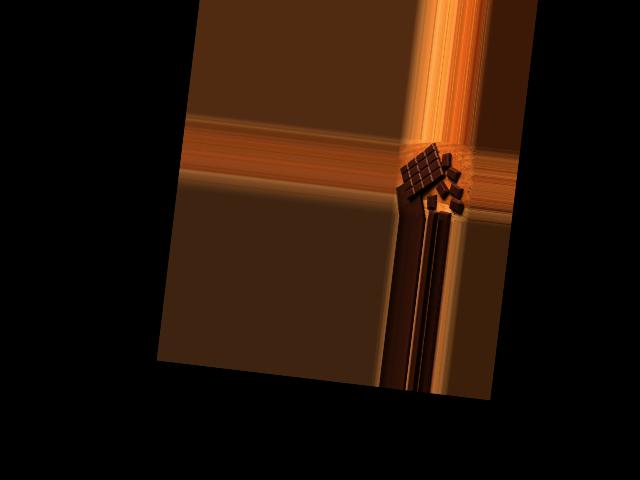chocolate: (396, 141, 450, 203)
